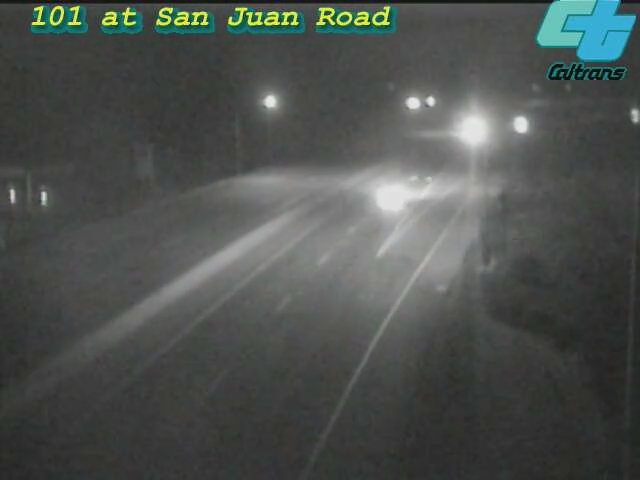vehicle: (349, 161, 429, 241), (451, 104, 501, 154), (495, 100, 545, 150)
